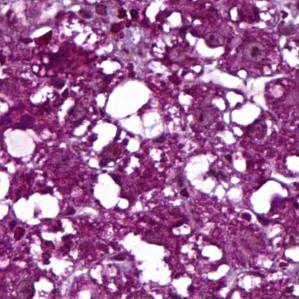ballooning: (104, 78, 168, 143)
